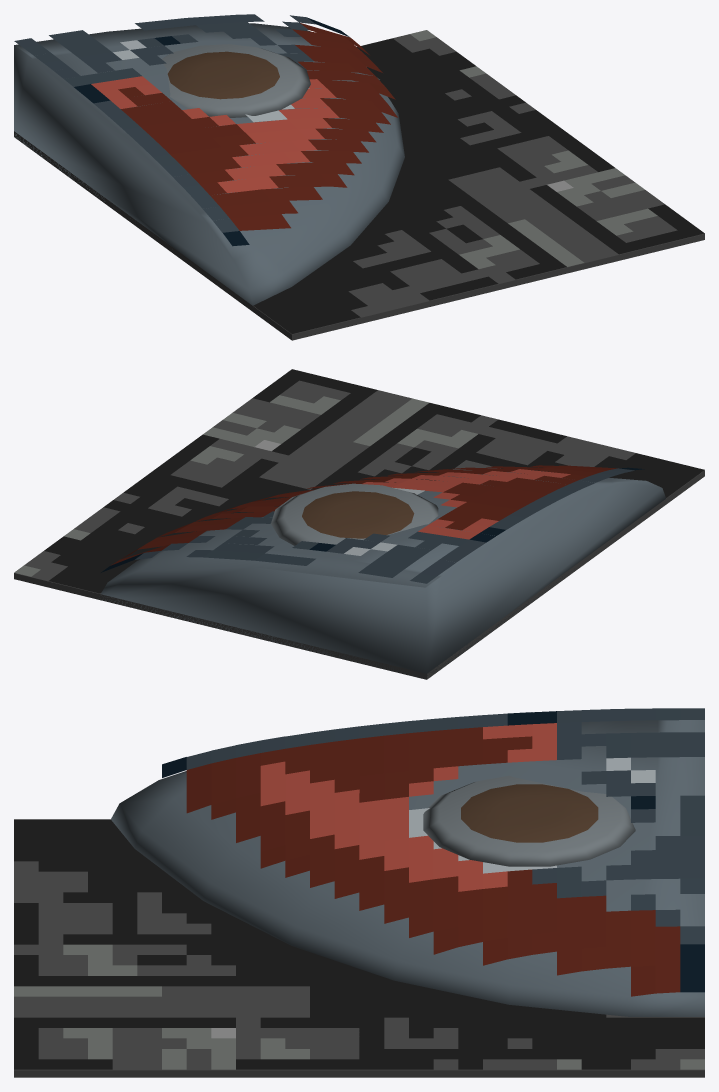
File: newshm-87.glb
3 views of the same model, one above another, from view 1: azimuth 30°, elevation 25°; view 2: azimuth 150°, elevation 25°; view 3: azimuth 270°, elevation 25° (orthographic). The views are drawn at different scales.
Visible parts, largest first — view 1: newshm-87; view 2: newshm-87; view 3: newshm-87.
Part boxes in pixels (<box>): newshm-87: <box>14,14,704,340</box>; newshm-87: <box>14,369,704,679</box>; newshm-87: <box>14,708,704,1077</box>.
Size of the model in its own units: 2 by 0.4445 by 2.33.
